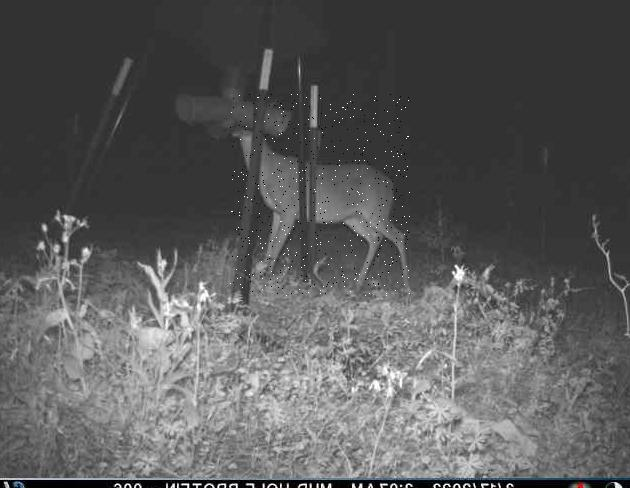Deer: (229, 94, 410, 296)
